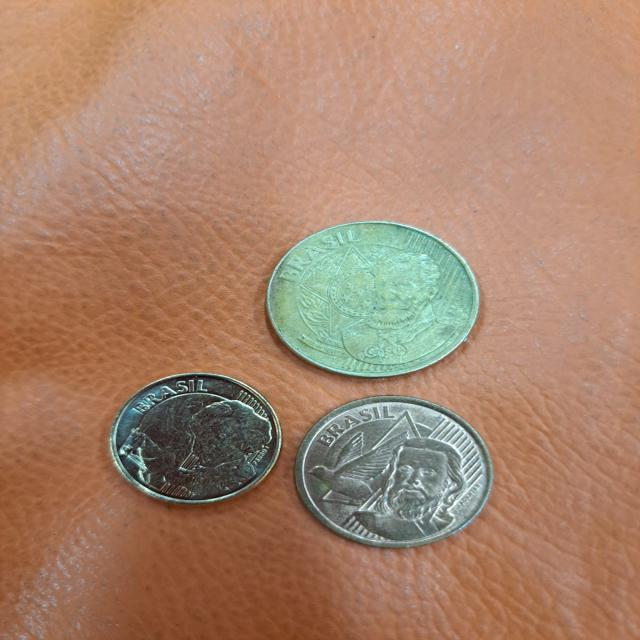25 cents: (245, 214, 504, 382)
50 cents: (299, 392, 520, 554)
